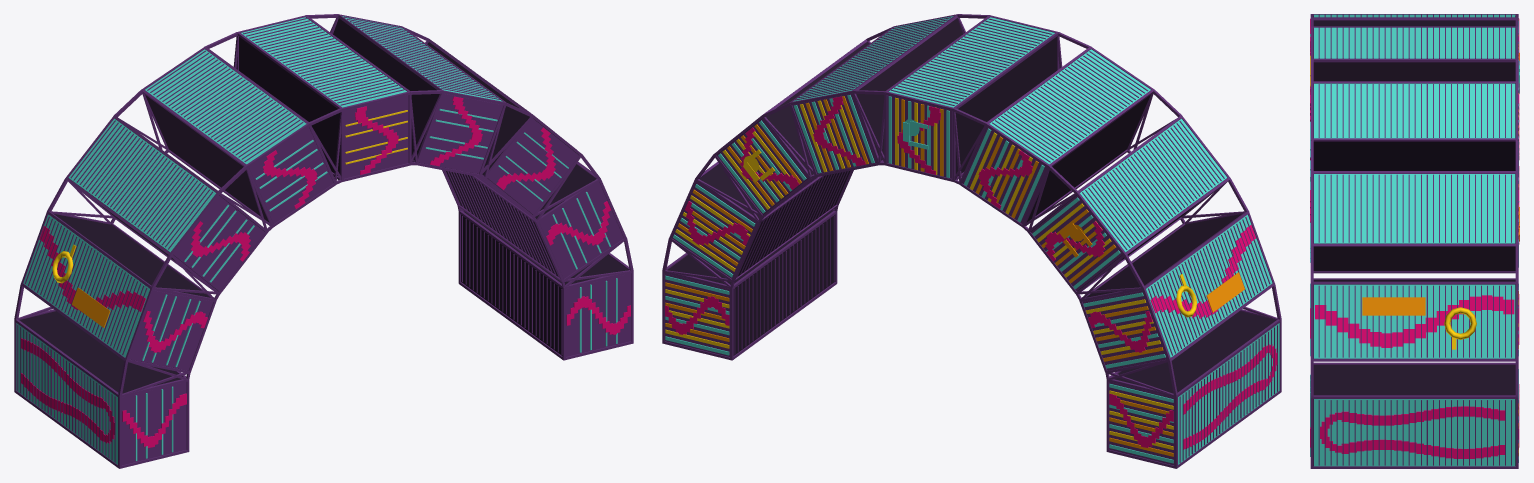
Rendered from ndsm-container-arch.glb.
3 renders of one model, left to right at view 1: azimuth 30°, elevation 25°; view 2: azimuth 150°, elevation 25°; view 3: azimuth 270°, elevation 25°, orthographic.
Parts seen in each view (by area): view 1: ndsm-container-arch; view 2: ndsm-container-arch; view 3: ndsm-container-arch.
Part boxes in pixels (box(x1,y1,x2,y2)): ndsm-container-arch: box(14, 14, 633, 468); ndsm-container-arch: box(662, 14, 1281, 468); ndsm-container-arch: box(1310, 14, 1519, 468).
Bounding box in the file's own units: 18.56 × 10.54 × 6.63.
